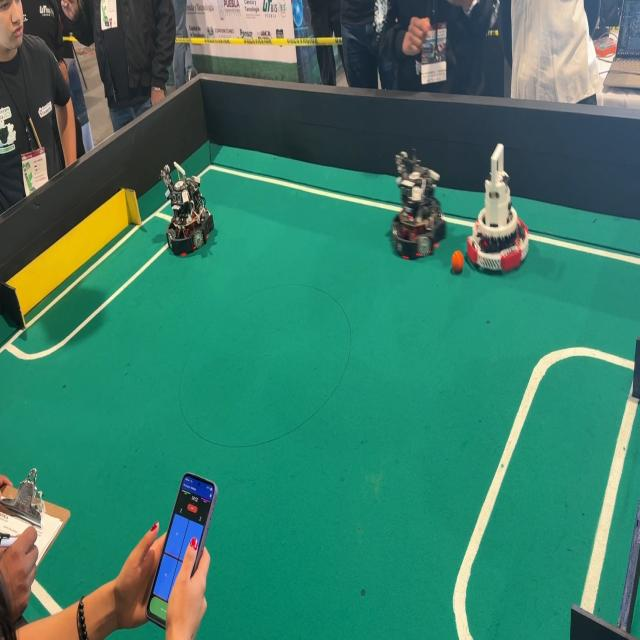Robot: (464, 140, 532, 286), (156, 153, 226, 265), (386, 144, 449, 268)
pelota: (451, 251, 464, 272)
